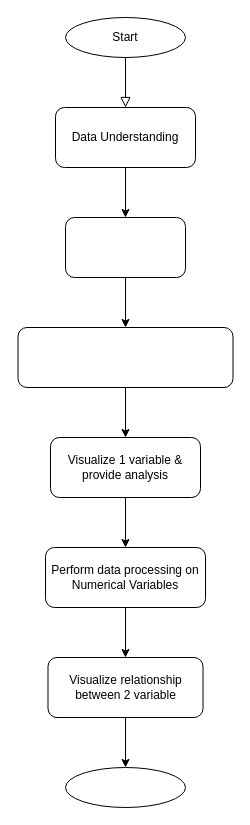
Some shapes in this 250 by 825 pixel diagram are drawn without their labels. The box of each missing label's shape, as (x1, y1, x2, y2) in pixels:
Data Preparation (drop missing value & split dataset): (17, 326, 233, 388)
Finish: (64, 766, 186, 808)
Generate Dataset: (64, 216, 186, 278)
